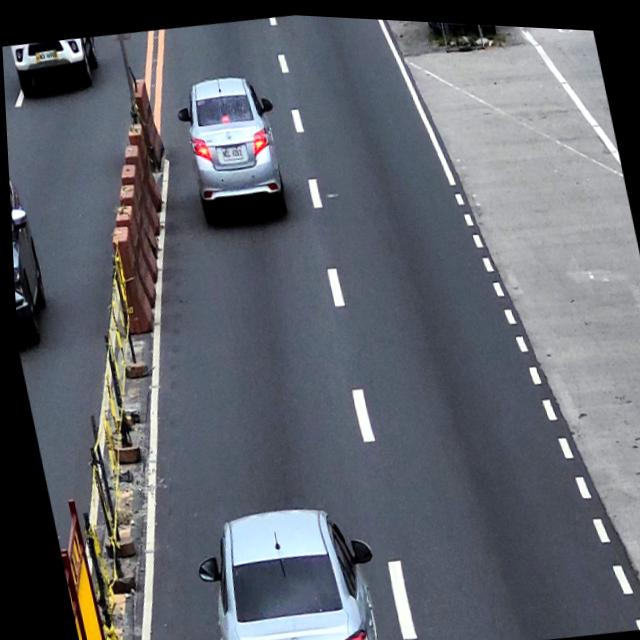Car: (180, 489, 386, 640), (170, 67, 295, 230)
License-Plate: (219, 141, 242, 159)
